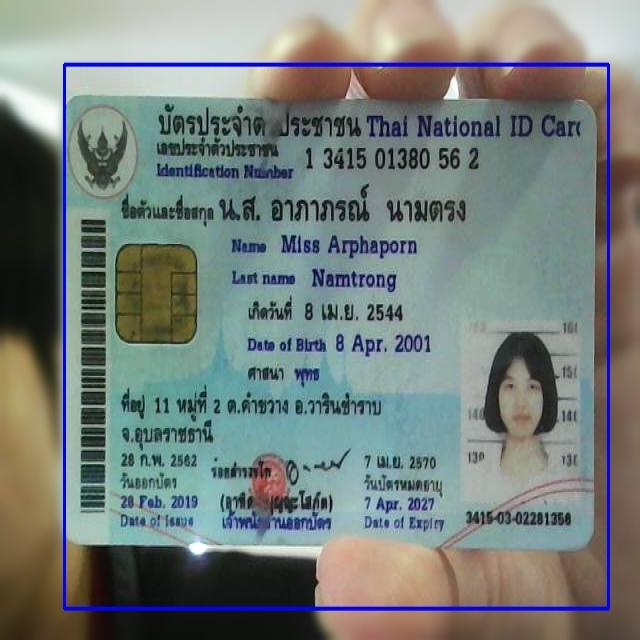Address_th: (114, 384, 392, 454)
Date_of_Birth: (333, 327, 437, 363)
Date_of_Expiry: (362, 494, 444, 515)
Date_of_Issue: (115, 490, 202, 512)
First_Name: (278, 227, 419, 262)
ID_Number: (301, 139, 486, 179)
Image: (465, 323, 581, 506)
Last_Name: (308, 265, 400, 295)
Thai_Name: (215, 180, 474, 232)
